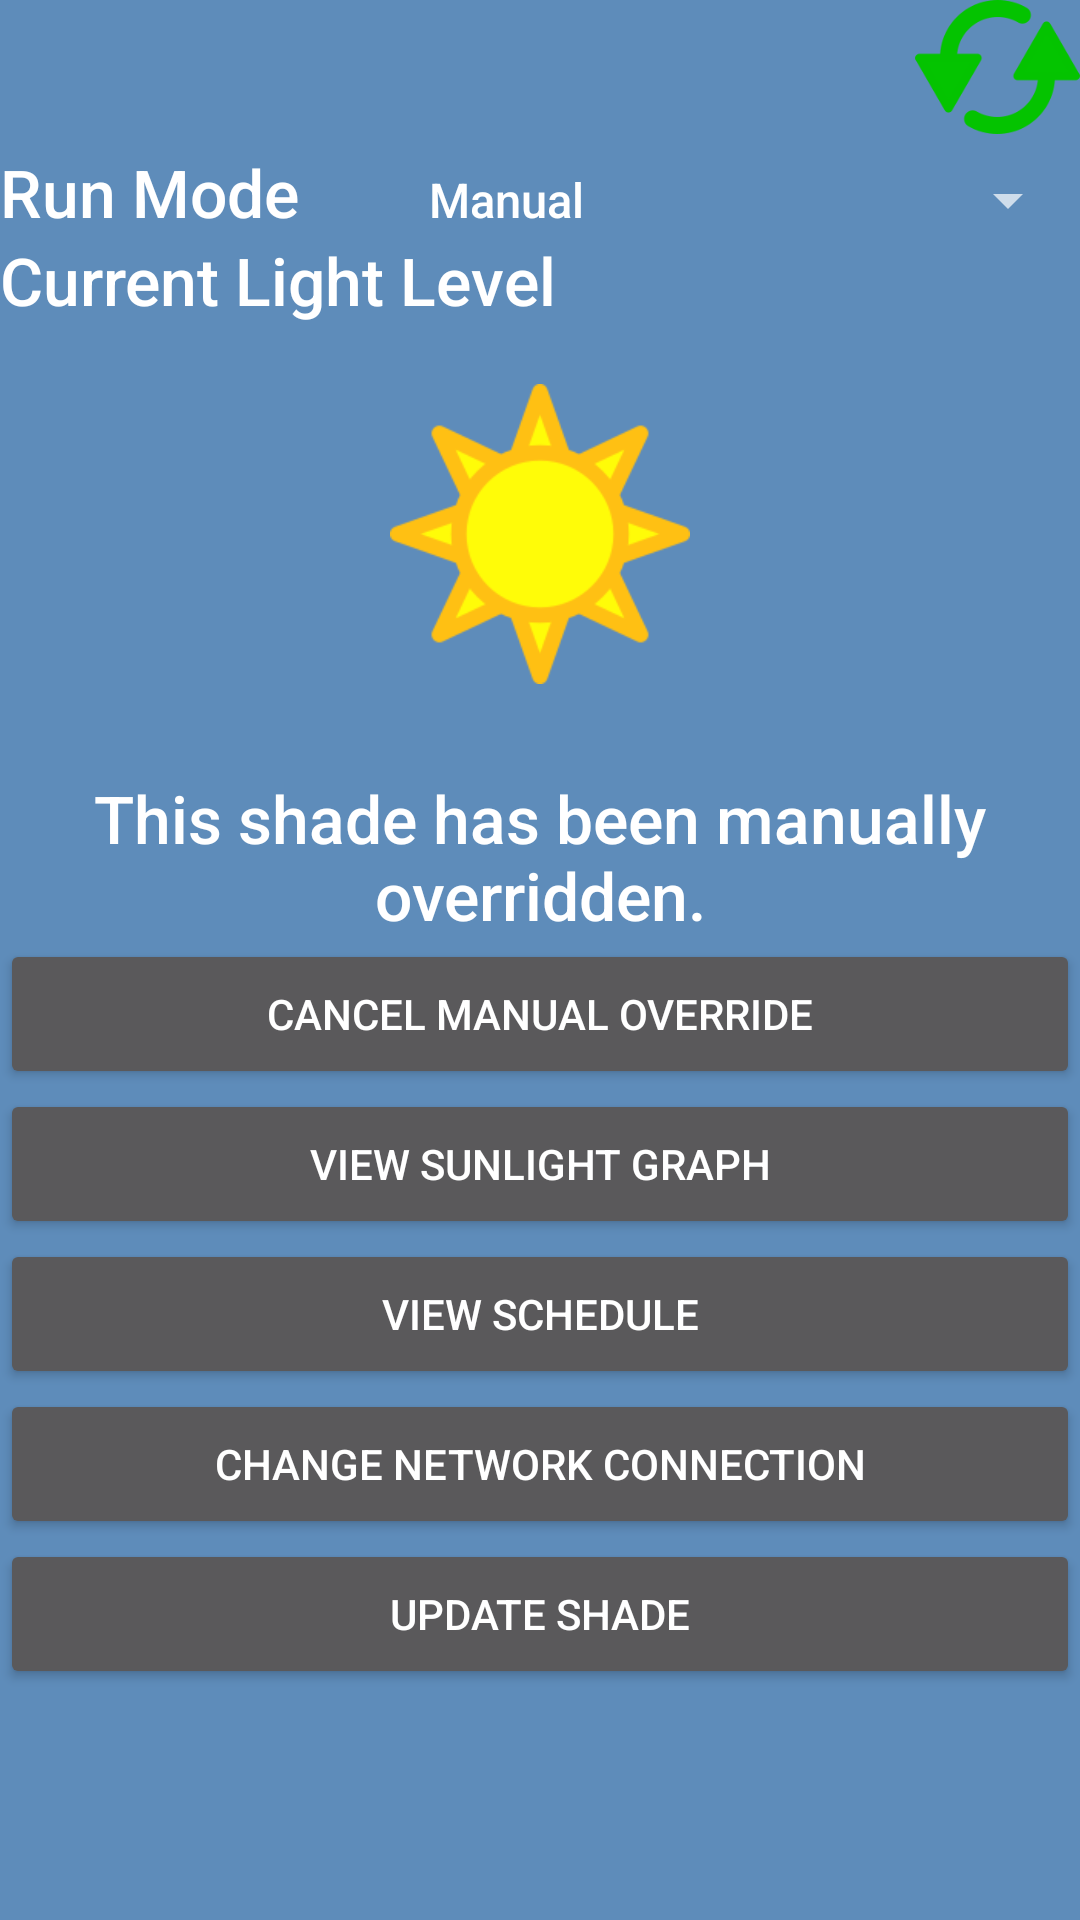

Icons on this 1080x1920 Android screen, each with the point to tap as [x,y]:
refresh: [997,67]
sun: [540,534]
